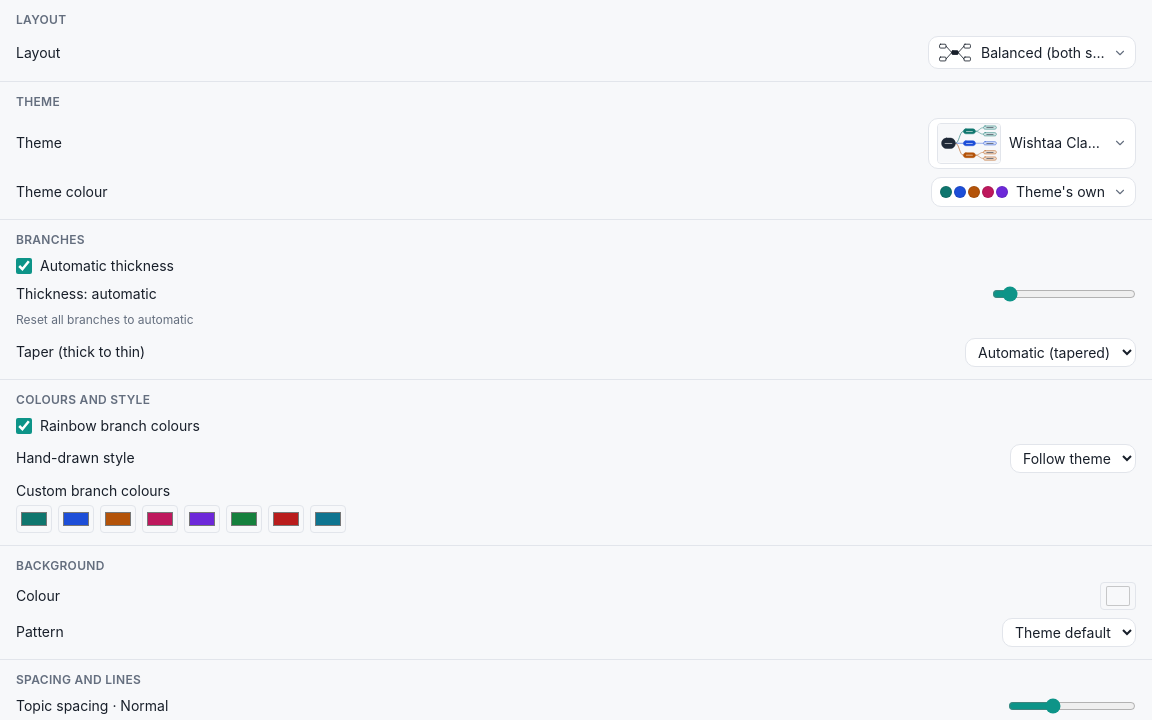
Test case: the Canvas section: compact rows › the Theme row opens the gallery, and applying a theme is one undo step and closes it
Click the button with test id "theme-row": coordinates (1032, 143) [928, 118, 1136, 169]
(page scrolled)
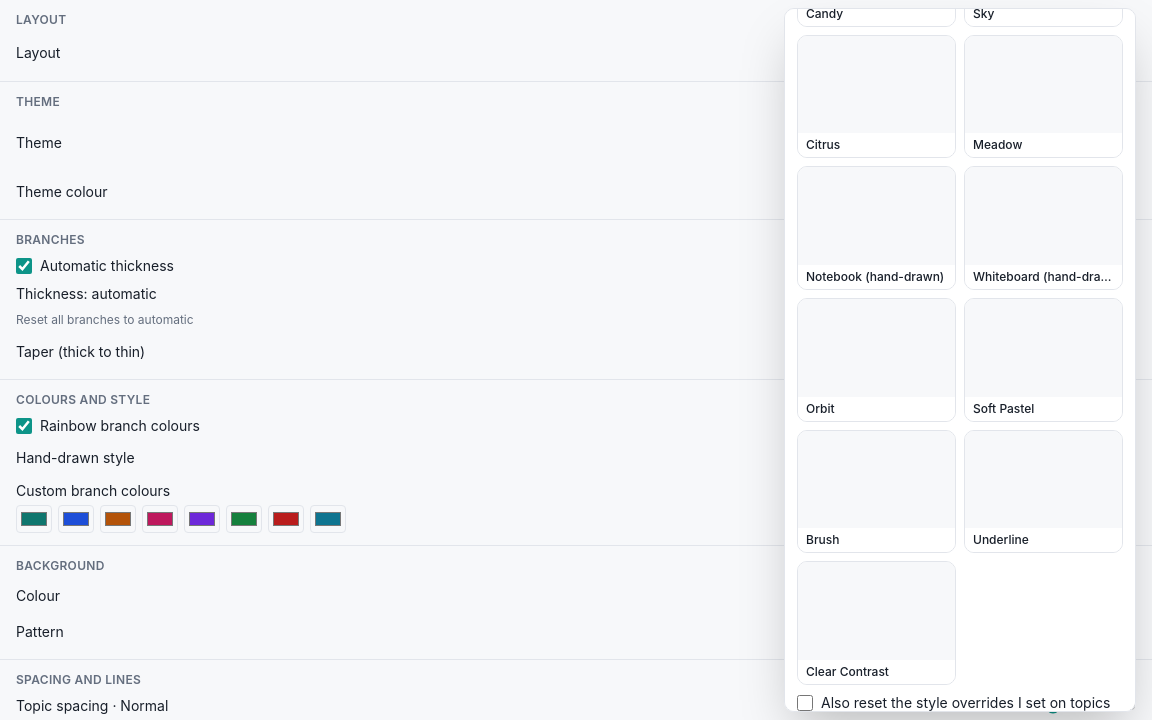
Click the button with aria-label "Orbit theme": coordinates (876, 360) [797, 298, 956, 422]
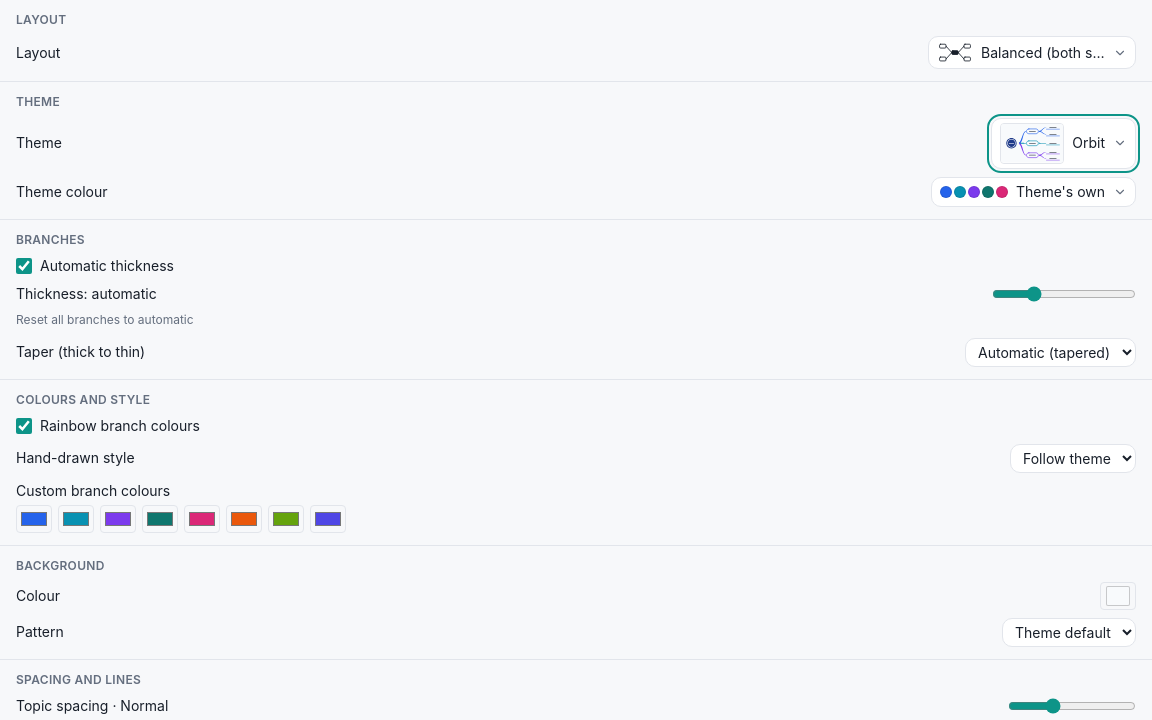
Result: the dialog is gone
